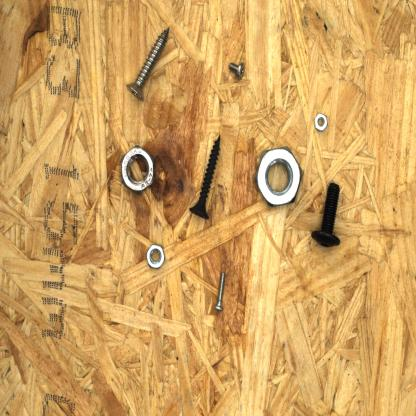screw: (124, 25, 172, 104), (187, 133, 223, 221), (309, 178, 346, 249), (212, 268, 229, 314), (227, 60, 248, 80)
